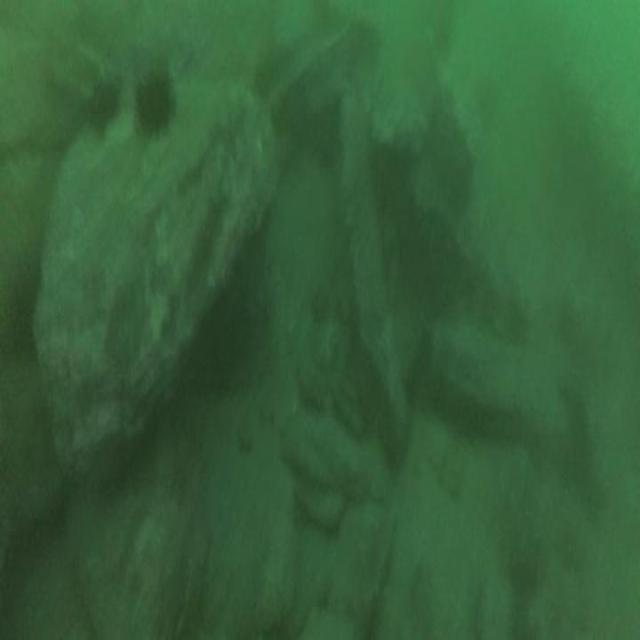echinus: (138, 77, 173, 133), (85, 84, 119, 132)
holothurian: (331, 378, 366, 438), (298, 358, 325, 408)
